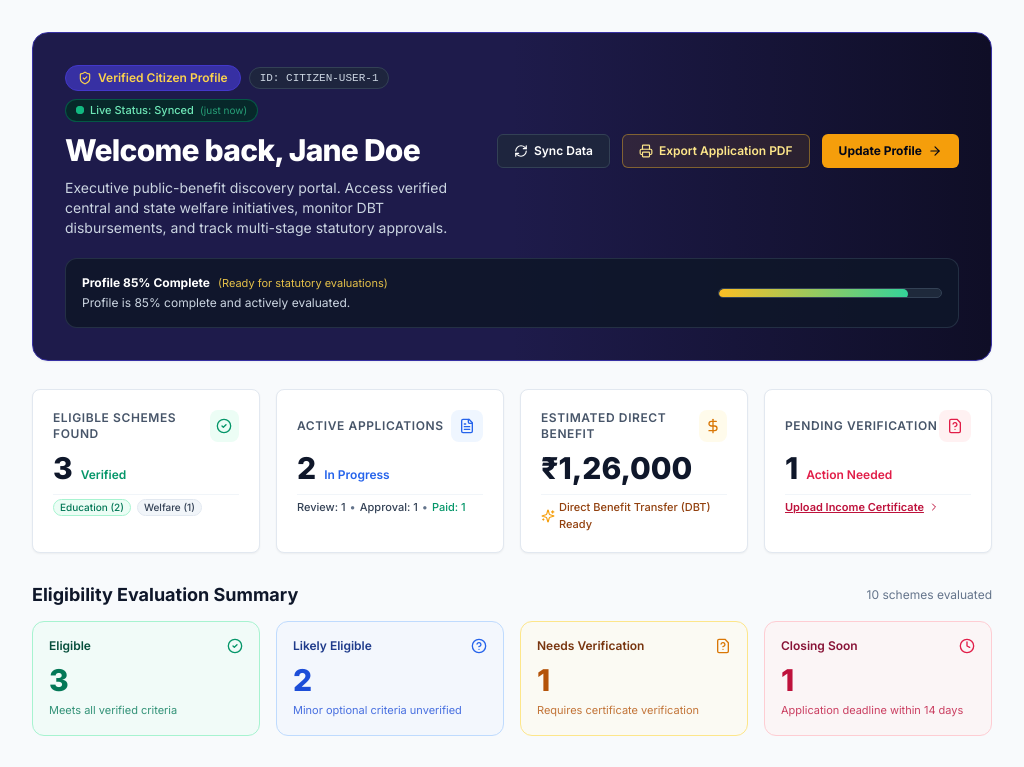
Test case: DashboardPage Component › opens and closes the Export Citizen Benefit Summary modal
This screenshot has width=1024, height=767.
Expected: the text "Export Application PDF" is shown, [659, 143, 793, 159]
What coordinates should you click on to do the following:
click the button "Export Application PDF"
I would click on:
 (716, 151)
Its box is [622, 134, 810, 168].
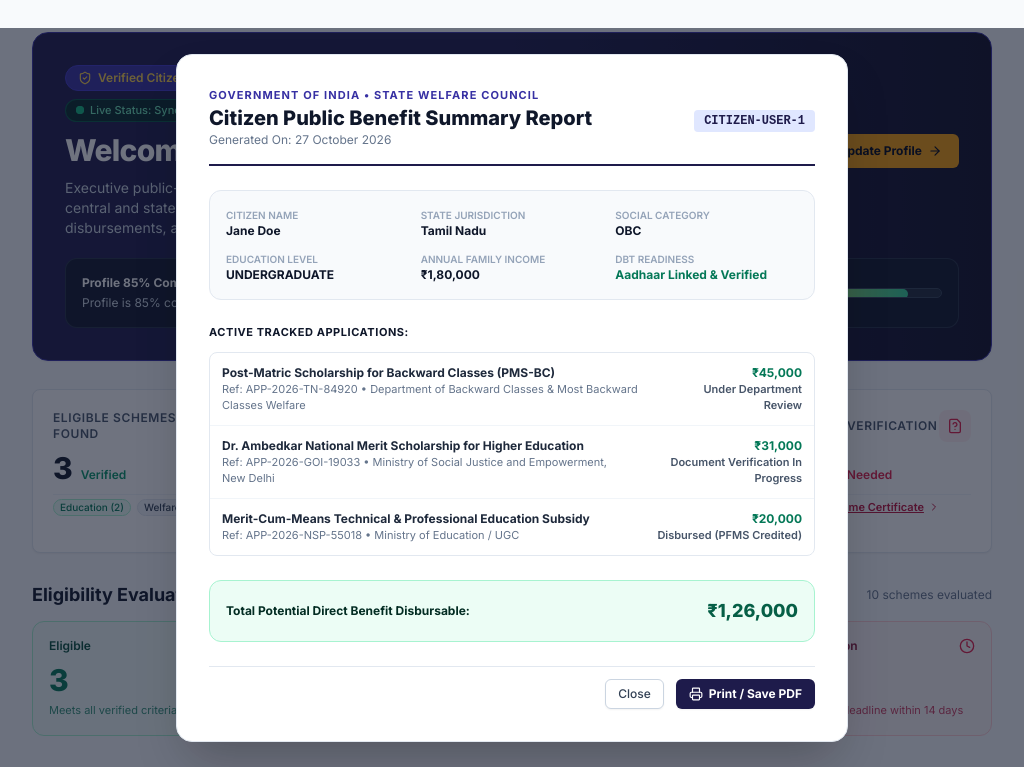
Expected: the heading "Citizen Public Benefit Summary Report" is shown, [209, 104, 592, 132]
What coordinates should you click on to do the following:
click the button "Close"
I would click on:
 (634, 694)
Its box is [605, 679, 664, 709].
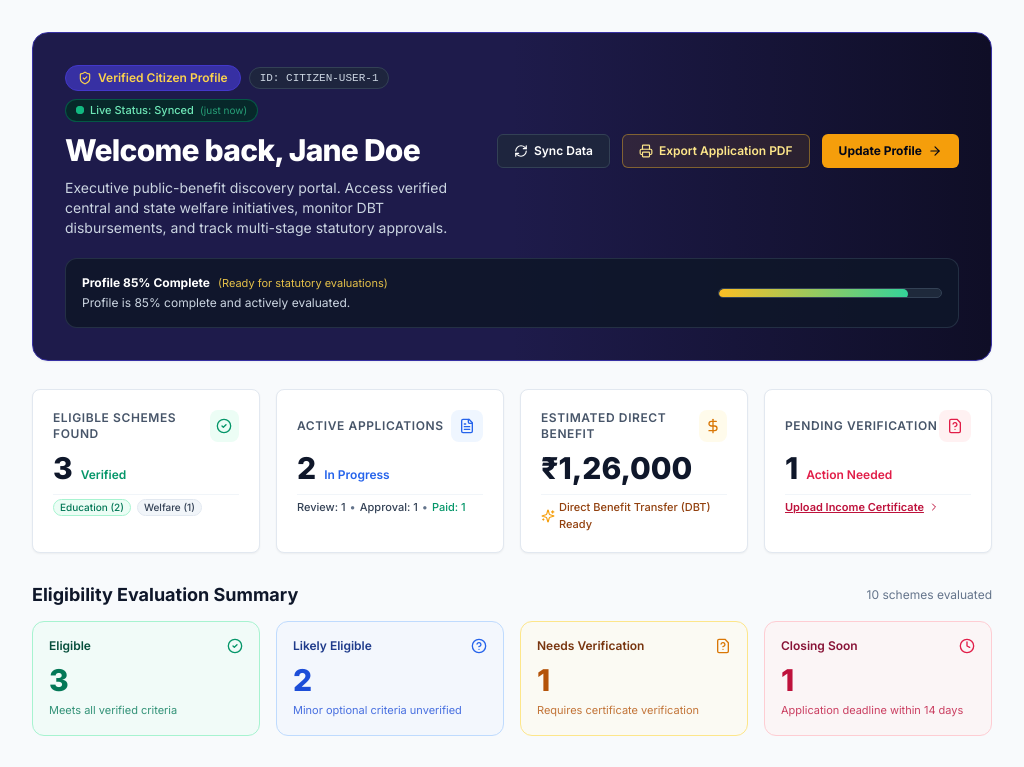
Expected: the heading "Citizen Public Benefit Summary Report" is gone
